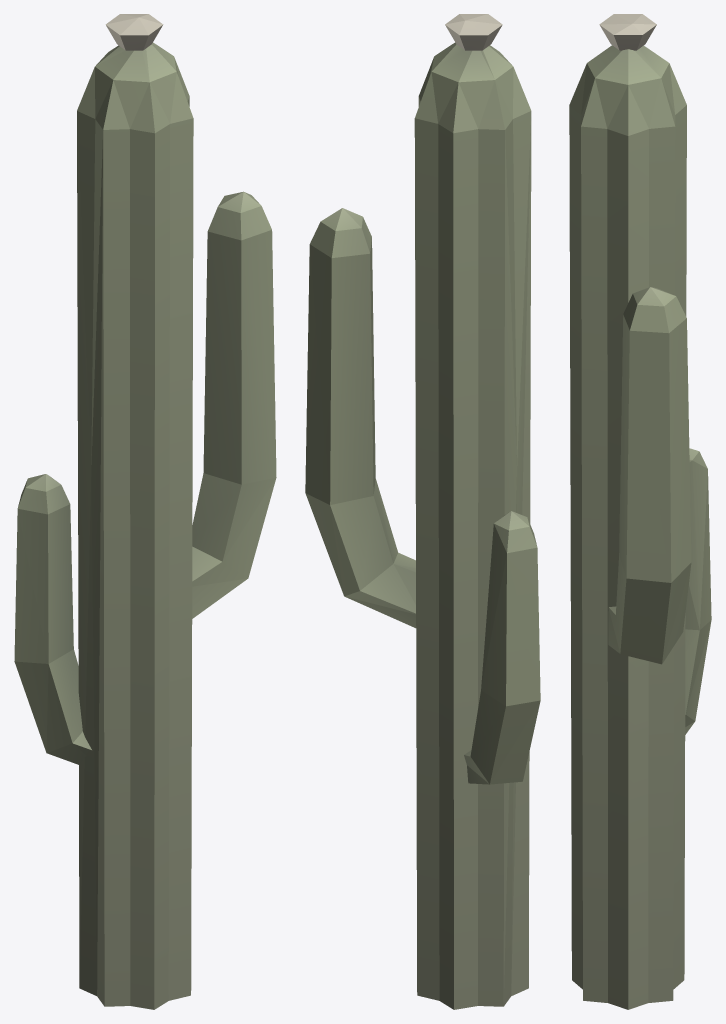
File: cactus.lod1.glb
3 renders of one model, left to right at view 1: azimuth 30°, elevation 25°; view 2: azimuth 150°, elevation 25°; view 3: azimuth 270°, elevation 25°, orthographic.
Bounding box in the file's own units: 0.8625 × 3.32 × 0.4433.
